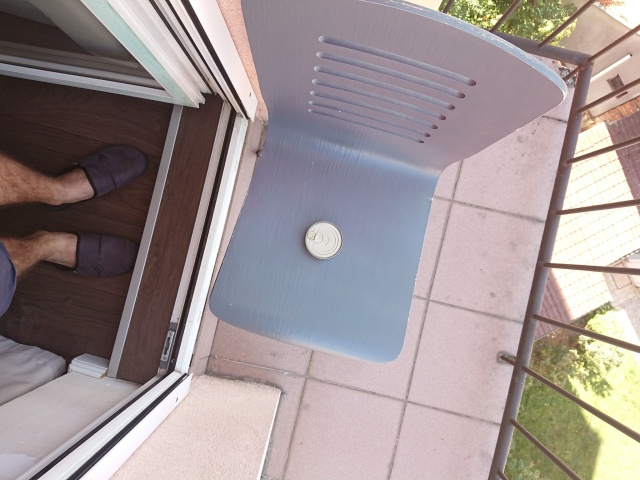Gavrilovic Pork Liver Pate 100g: (302, 218, 344, 260)
